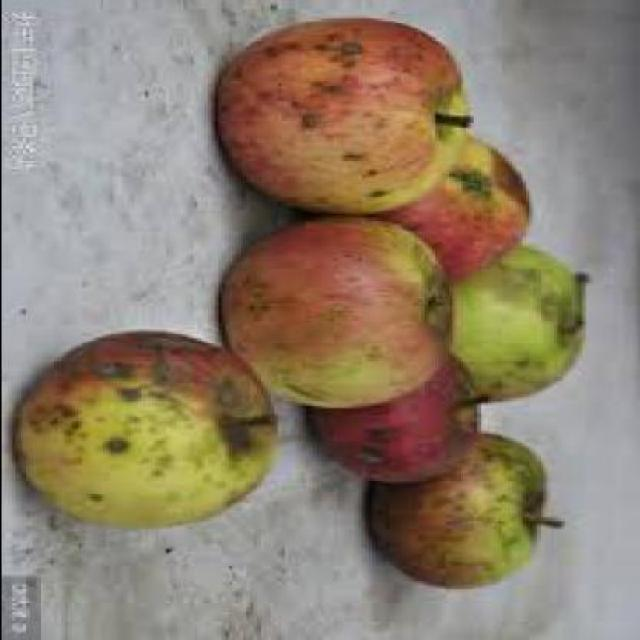BIODEGRADABLE: (214, 18, 475, 220), (14, 334, 280, 531), (220, 218, 454, 412), (370, 436, 567, 592), (326, 142, 532, 278), (312, 352, 490, 485), (437, 246, 588, 402)
